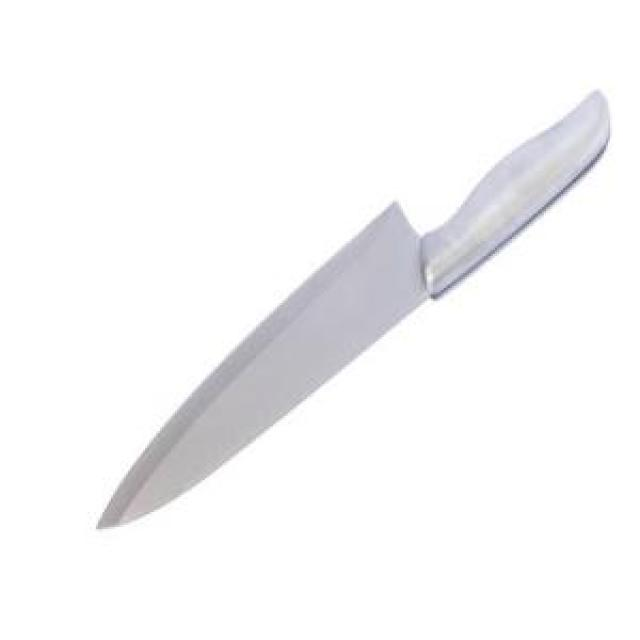knife: (94, 77, 624, 532)
